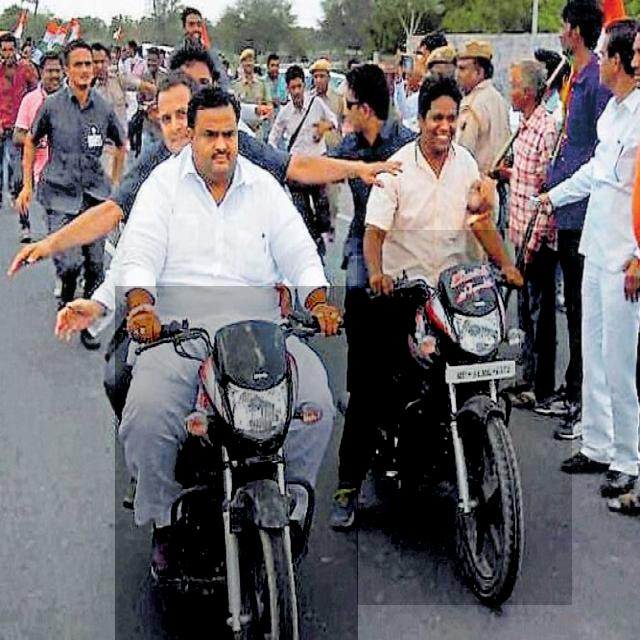Bike: (115, 286, 358, 640), (357, 230, 572, 605)
